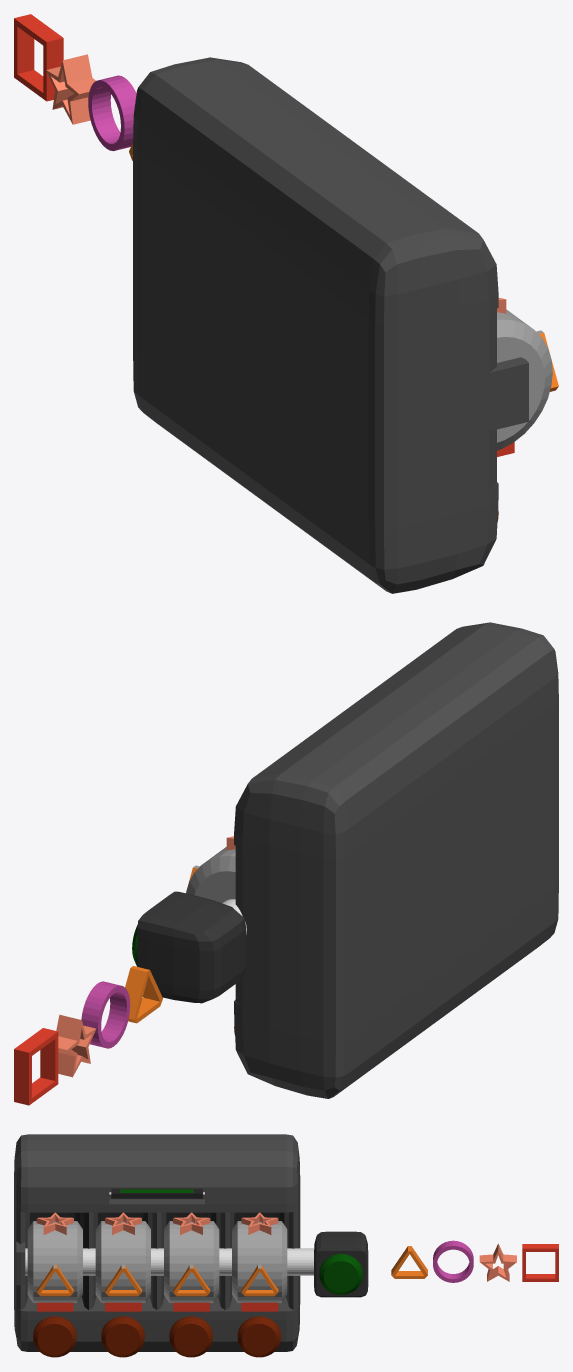
File: puzlle.fbx
3 renders of one model, top to bottom at view 1: azimuth 30°, elevation 25°; view 2: azimuth 150°, elevation 25°; view 3: azimuth 270°, elevation 25°, orthographic. The views are drawn at different scales.
Parts seen in each view (by area): view 1: Cube.010, Circle.003, Circle.005, Circle.008, Circle.006; view 2: Cube.010, Cube.008, Circle.005, Circle.008, Circle.004, Circle.006, Circle.009; view 3: Cube.010, Circle.004, Circle.002, Circle.001, Circle.003, Cube.008, Cylinder.008, Cylinder.001, Cylinder.002, Cylinder.003, Cylinder.012, Cylinder.013 (+5 smaller).
Part boxes in pixels (x1=…): Cube.010: x1=133, y1=57, x2=528, y2=593; Circle.003: x1=497, y1=297, x2=558, y2=456; Circle.005: x1=14, y1=14, x2=63, y2=101; Circle.008: x1=88, y1=75, x2=136, y2=151; Circle.006: x1=46, y1=54, x2=95, y2=124; Cube.010: x1=234, y1=622, x2=558, y2=1098; Cube.008: x1=137, y1=891, x2=245, y2=1003; Circle.005: x1=14, y1=1028, x2=58, y2=1105; Circle.008: x1=81, y1=981, x2=130, y2=1048; Circle.004: x1=186, y1=836, x2=235, y2=903; Circle.006: x1=56, y1=1014, x2=95, y2=1077; Circle.009: x1=125, y1=966, x2=162, y2=1023; Cube.010: x1=14, y1=1134, x2=300, y2=1351; Circle.004: x1=232, y1=1212, x2=287, y2=1311; Circle.002: x1=164, y1=1212, x2=219, y2=1311; Circle.001: x1=95, y1=1212, x2=150, y2=1311; Circle.003: x1=27, y1=1212, x2=82, y2=1311; Cube.008: x1=314, y1=1231, x2=368, y2=1297; Cylinder.008: x1=25, y1=1248, x2=314, y2=1275; Cylinder.001: x1=169, y1=1316, x2=212, y2=1357; Cylinder.002: x1=101, y1=1316, x2=144, y2=1357; Cylinder.003: x1=33, y1=1316, x2=76, y2=1357; Cylinder.012: x1=237, y1=1316, x2=281, y2=1357; Cylinder.013: x1=319, y1=1253, x2=362, y2=1294.
Size of the model in its own units: 94.5 by 160 by 400.
